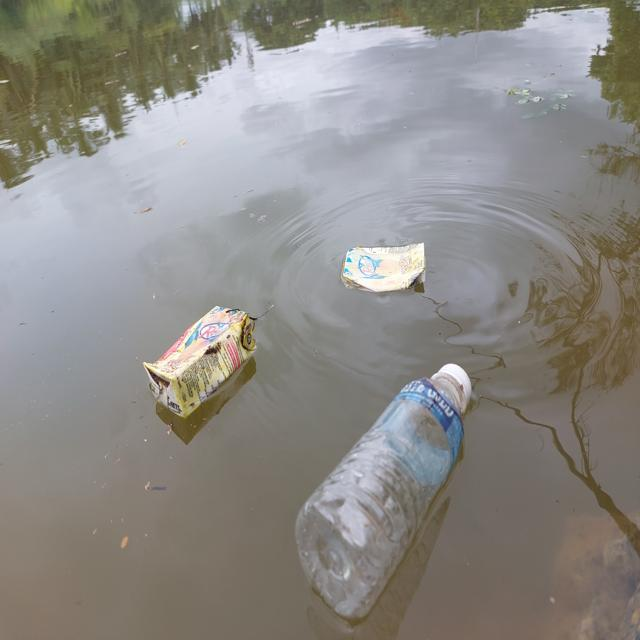paper: (151, 256, 259, 434), (339, 249, 423, 301)
waterbottle: (287, 344, 479, 623)
